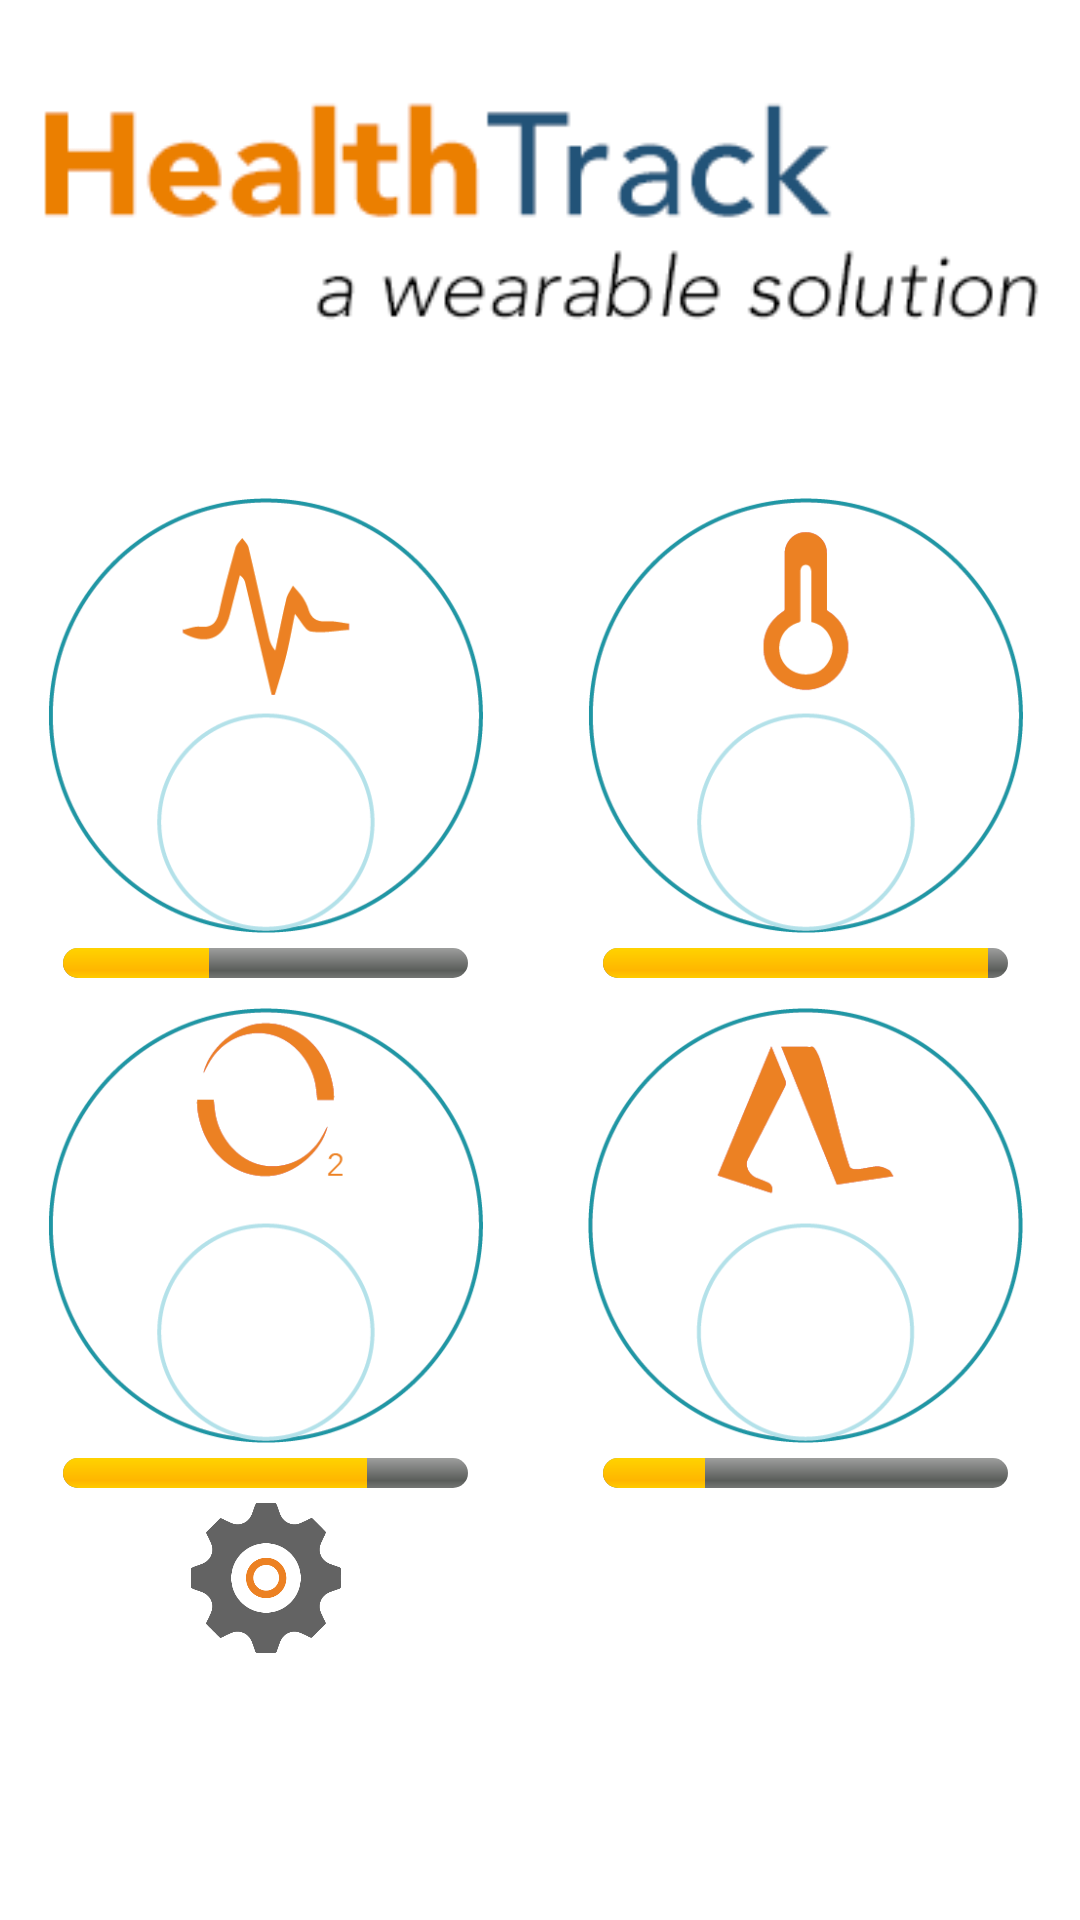

Where to tap for icons on this 1080x1920 app screen, as (x,y):
gear: (266,1578)
